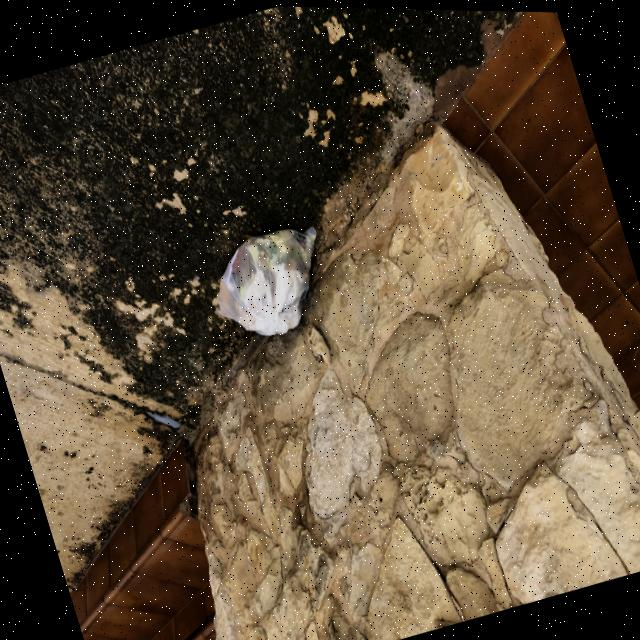Organic Waste -White Bag-: (190, 204, 360, 359)
